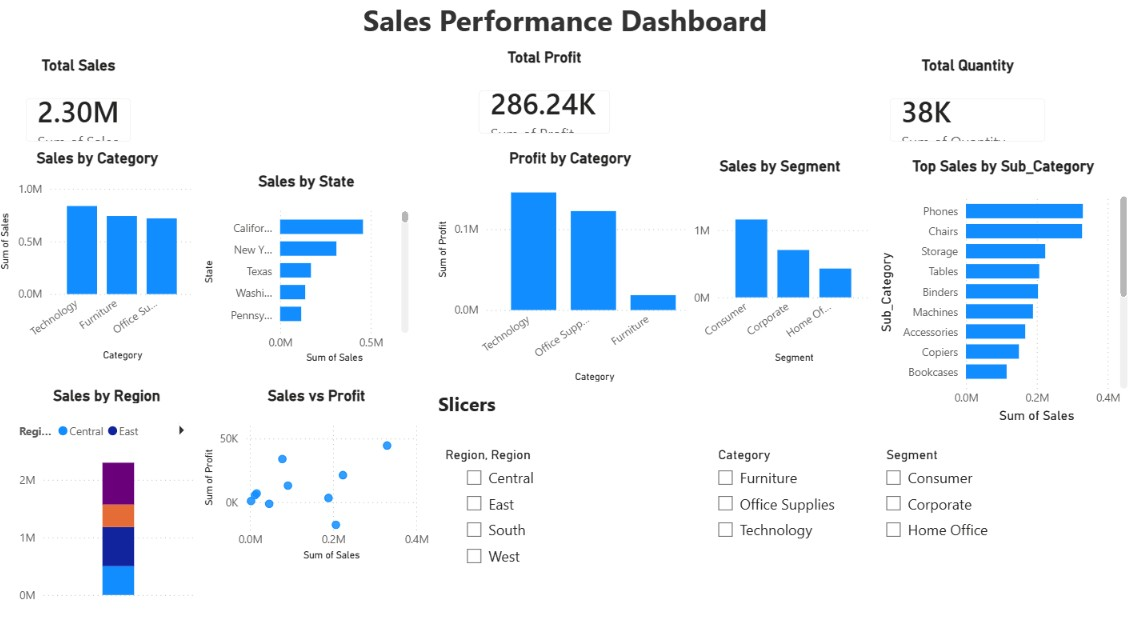

Layout of this report page (visuals, bound fields, positions):
{"tool":"powerbi","page":{"name":"Page 1","canvas":[1280,720],"ordinal":0},"visuals":[{"type":"cardVisual","fields":{"Data":["Sum(SampleSuperstore_Clean.Sales)"]},"box":[0,439.1,151.1,156.4],"z":1},{"type":"cardVisual","fields":{"Data":["Sum(SampleSuperstore_Clean.Profit)"]},"box":[359.1,448,179.6,136.9],"z":2},{"type":"cardVisual","fields":{"Data":["Sum(SampleSuperstore_Clean.Quantity)"]},"box":[151.1,455.1,208,122.7],"z":3},{"type":"columnChart","fields":{"Category":["SampleSuperstore_Clean.Category"],"Y":["Sum(SampleSuperstore_Clean.Sales)"]},"box":[0,0,359.1,348.4],"z":4},{"type":"columnChart","fields":{"Category":["SampleSuperstore_Clean.Category"],"Y":["Sum(SampleSuperstore_Clean.Profit)","Sum(SampleSuperstore_Clean.Profit)"]},"box":[359.1,0,330.7,348.4],"z":5},{"type":"columnChart","fields":{"Series":["SampleSuperstore_Clean.Region"],"Y":["Sum(SampleSuperstore_Clean.Sales)"]},"box":[700.4,0,270.2,348.4],"z":6},{"type":"columnChart","fields":{"Category":["SampleSuperstore_Clean.Segment"],"Y":["Sum(SampleSuperstore_Clean.Sales)"]},"box":[985,0,270,348],"z":7},{"type":"clusteredBarChart","fields":{"Category":["SampleSuperstore_Clean.State"],"Y":["Sum(SampleSuperstore_Clean.Sales)"]},"box":[538.9,455.6,151,150],"z":8},{"type":"clusteredBarChart","fields":{"Category":["SampleSuperstore_Clean.Sub_Category"],"Y":["Sum(SampleSuperstore_Clean.Sales)"]},"box":[700,456,286,150],"z":9},{"type":"scatterChart","fields":{"X":["Sum(SampleSuperstore_Clean.Sales)"],"Y":["Sum(SampleSuperstore_Clean.Profit)"],"Category":["SampleSuperstore_Clean.Sub_Category"]},"box":[986,456,269,150],"z":10}]}

Visuals, with their boxes in screenshot pixels (x1, y1, x2, y2), scaled from the page's 1280x720 canvas onto the 1142x631 screenshot:
cardVisual - Sum(SampleSuperstore_Clean.Sales): region(0, 385, 135, 522)
cardVisual - Sum(SampleSuperstore_Clean.Profit): region(320, 393, 481, 513)
cardVisual - Sum(SampleSuperstore_Clean.Quantity): region(135, 399, 320, 506)
columnChart - SampleSuperstore_Clean.Category x Sum(SampleSuperstore_Clean.Sales): region(0, 0, 320, 305)
columnChart - SampleSuperstore_Clean.Category x Sum(SampleSuperstore_Clean.Profit): region(320, 0, 615, 305)
columnChart - SampleSuperstore_Clean.Region x Sum(SampleSuperstore_Clean.Sales): region(625, 0, 866, 305)
columnChart - SampleSuperstore_Clean.Segment x Sum(SampleSuperstore_Clean.Sales): region(879, 0, 1120, 305)
clusteredBarChart - SampleSuperstore_Clean.State x Sum(SampleSuperstore_Clean.Sales): region(481, 399, 616, 531)
clusteredBarChart - SampleSuperstore_Clean.Sub_Category x Sum(SampleSuperstore_Clean.Sales): region(625, 400, 880, 531)
scatterChart - Sum(SampleSuperstore_Clean.Sales) x Sum(SampleSuperstore_Clean.Profit): region(880, 400, 1120, 531)
